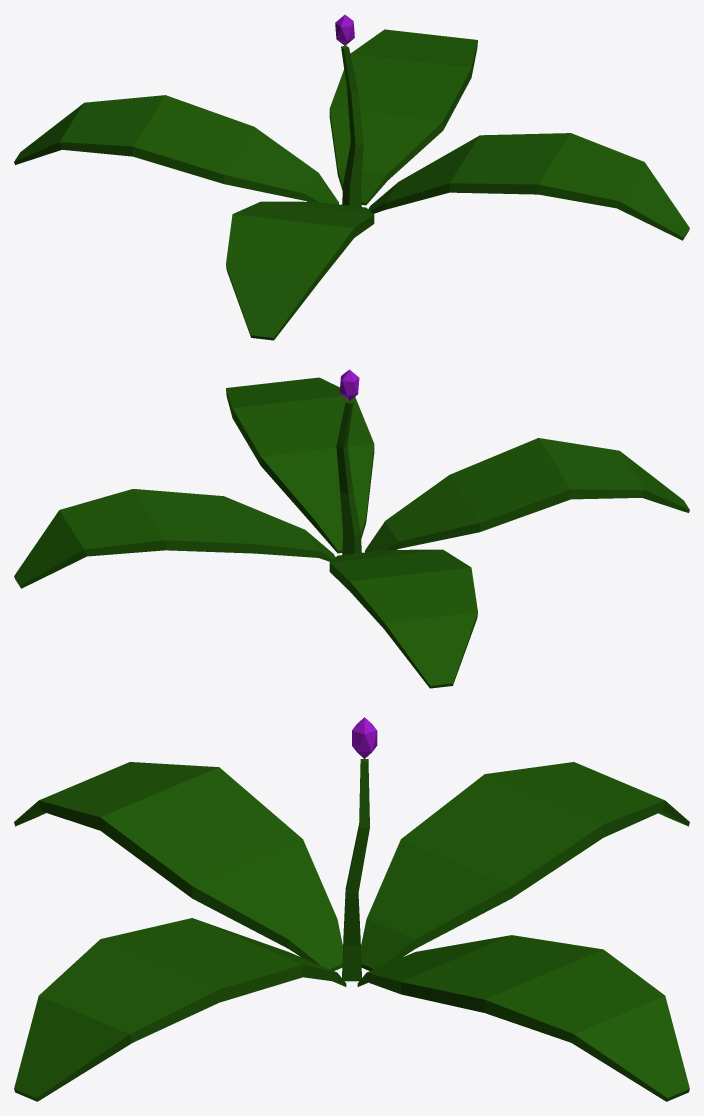
Rendered from Plant_2.fbx.
3 renders of one model, top to bottom at view 1: azimuth 30°, elevation 25°; view 2: azimuth 150°, elevation 25°; view 3: azimuth 270°, elevation 25°, orthographic. The views are drawn at different scales.
Parts seen in each view (by area): view 1: Plant_2; view 2: Plant_2; view 3: Plant_2.
Part boxes in pixels (x1,y1,x2,y2): Plant_2: [14, 14, 689, 340]; Plant_2: [14, 369, 689, 688]; Plant_2: [14, 717, 689, 1101].
Bounding box in the file's own units: 6.38 × 2.69 × 6.38.
